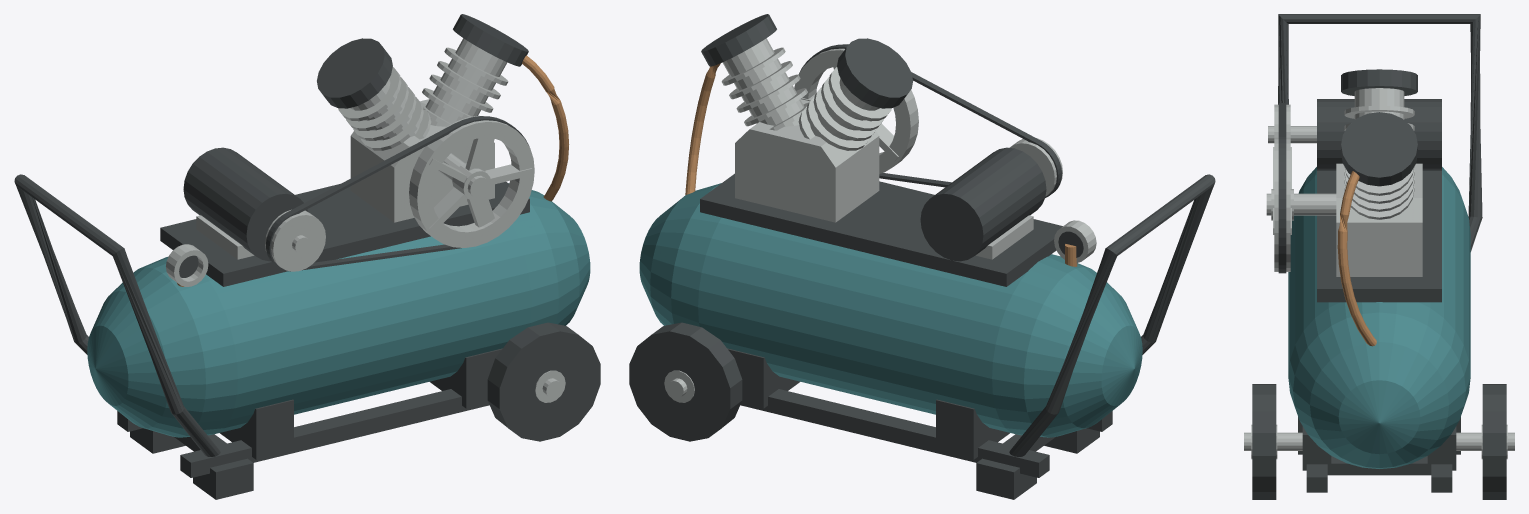
The picture shows the model from 3 angles, left to right: view 1: azimuth 30°, elevation 25°; view 2: azimuth 150°, elevation 25°; view 3: azimuth 270°, elevation 25°; orthographic projection.
Parts seen in each view (by area): view 1: WholeDomedHorizontalTankExterior, WholeFrontTireNear, WholeUpperMountingBed, WholeMotorCasing, WholeOpenPushHandle, WholeLargePulleyRim, WholeLowChassisRailNear, WholePumpCrankcase, WholeFinnedCylinderRight, WholeFinnedCylinderLeft, WholeCylinderHeadLeft, WholeContinuousFlatDriveBelt (+11 smaller); view 2: WholeDomedHorizontalTankExterior, WholeUpperMountingBed, WholePumpCrankcase, WholeFrontTireFar, WholeMotorCasing, WholeOpenPushHandle, WholeLowChassisRailFar, WholeFinnedCylinderRight, WholeFinnedCylinderLeft, WholeCylinderHeadLeft, WholeLargePulleyRim, WholeCurvedTankSaddle0 (+9 smaller); view 3: WholeDomedHorizontalTankExterior, WholeUpperMountingBed, WholePumpCrankcase, WholeOpenPushHandle, WholeCylinderHeadRight, WholeMotorCasing, WholeFrontTireFar, WholeFrontTireNear, WholeFinnedCylinderRight, WholeCurvedDeliveryTubeExterior, WholeCylinderHeadLeft, WholeFinnedCylinderLeft (+11 smaller).
Part boxes in pixels (x1,y1,x2,y2): WholeDomedHorizontalTankExterior: [87, 183, 590, 437]; WholeFrontTireNear: [487, 322, 600, 441]; WholeUpperMountingBed: [160, 181, 529, 286]; WholeMotorCasing: [183, 147, 308, 261]; WholeOpenPushHandle: [14, 174, 220, 456]; WholeLargePulleyRim: [409, 115, 534, 247]; WholeLowChassisRailNear: [180, 389, 489, 477]; WholePumpCrankcase: [350, 99, 494, 222]; WholeFinnedCylinderRight: [421, 38, 508, 126]; WholeFinnedCylinderLeft: [338, 67, 431, 150]; WholeCylinderHeadLeft: [317, 38, 392, 108]; WholeContinuousFlatDriveBelt: [266, 116, 529, 271]; WholeDomedHorizontalTankExterior: [639, 183, 1142, 437]; WholeUpperMountingBed: [700, 173, 1062, 286]; WholePumpCrankcase: [735, 99, 879, 222]; WholeFrontTireFar: [629, 322, 742, 441]; WholeMotorCasing: [920, 147, 1046, 261]; WholeOpenPushHandle: [1009, 174, 1215, 456]; WholeLowChassisRailFar: [740, 389, 1049, 477]; WholeFinnedCylinderRight: [721, 38, 808, 130]; WholeFinnedCylinderLeft: [798, 67, 891, 150]; WholeCylinderHeadLeft: [837, 38, 912, 108]; WholeLargePulleyRim: [794, 44, 918, 173]; WholeCurvedTankSaddle0: [936, 399, 1009, 459]; WholeDomedHorizontalTankExterior: [1288, 167, 1470, 468]; WholeUpperMountingBed: [1317, 170, 1441, 302]; WholePumpCrankcase: [1336, 163, 1422, 276]; WholeOpenPushHandle: [1278, 14, 1482, 251]; WholeCylinderHeadRight: [1341, 112, 1417, 186]; WholeMotorCasing: [1317, 99, 1441, 170]; WholeFrontTireFar: [1482, 384, 1506, 499]; WholeFrontTireNear: [1252, 384, 1276, 499]; WholeFinnedCylinderRight: [1344, 167, 1414, 219]; WholeCurvedDeliveryTubeExterior: [1337, 171, 1376, 346]; WholeCylinderHeadLeft: [1341, 69, 1417, 95]; WholeFinnedCylinderLeft: [1344, 88, 1414, 130].
Bounding box in the file's own units: 1.23 × 0.8568 × 0.564.
